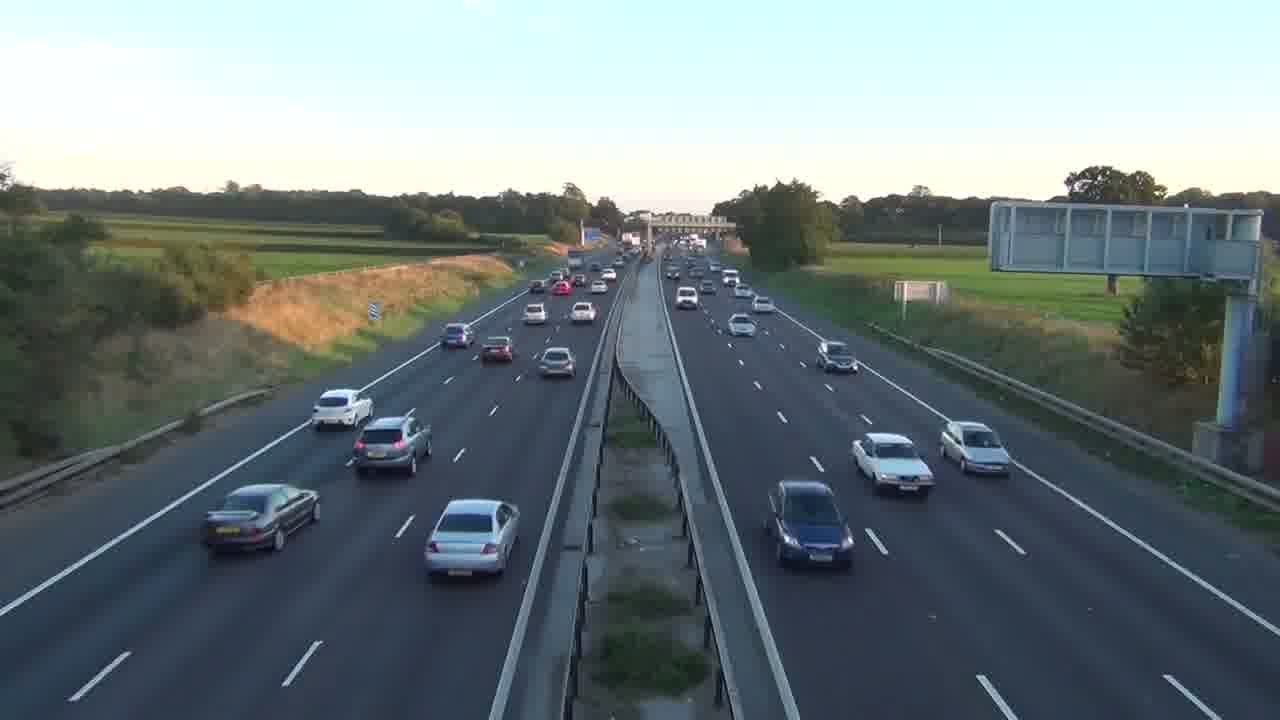car: (201, 482, 321, 553), (423, 497, 521, 581), (767, 479, 855, 568), (348, 410, 433, 476), (850, 431, 935, 496), (939, 420, 1012, 476), (312, 387, 375, 431), (533, 346, 576, 379), (480, 335, 514, 365)
